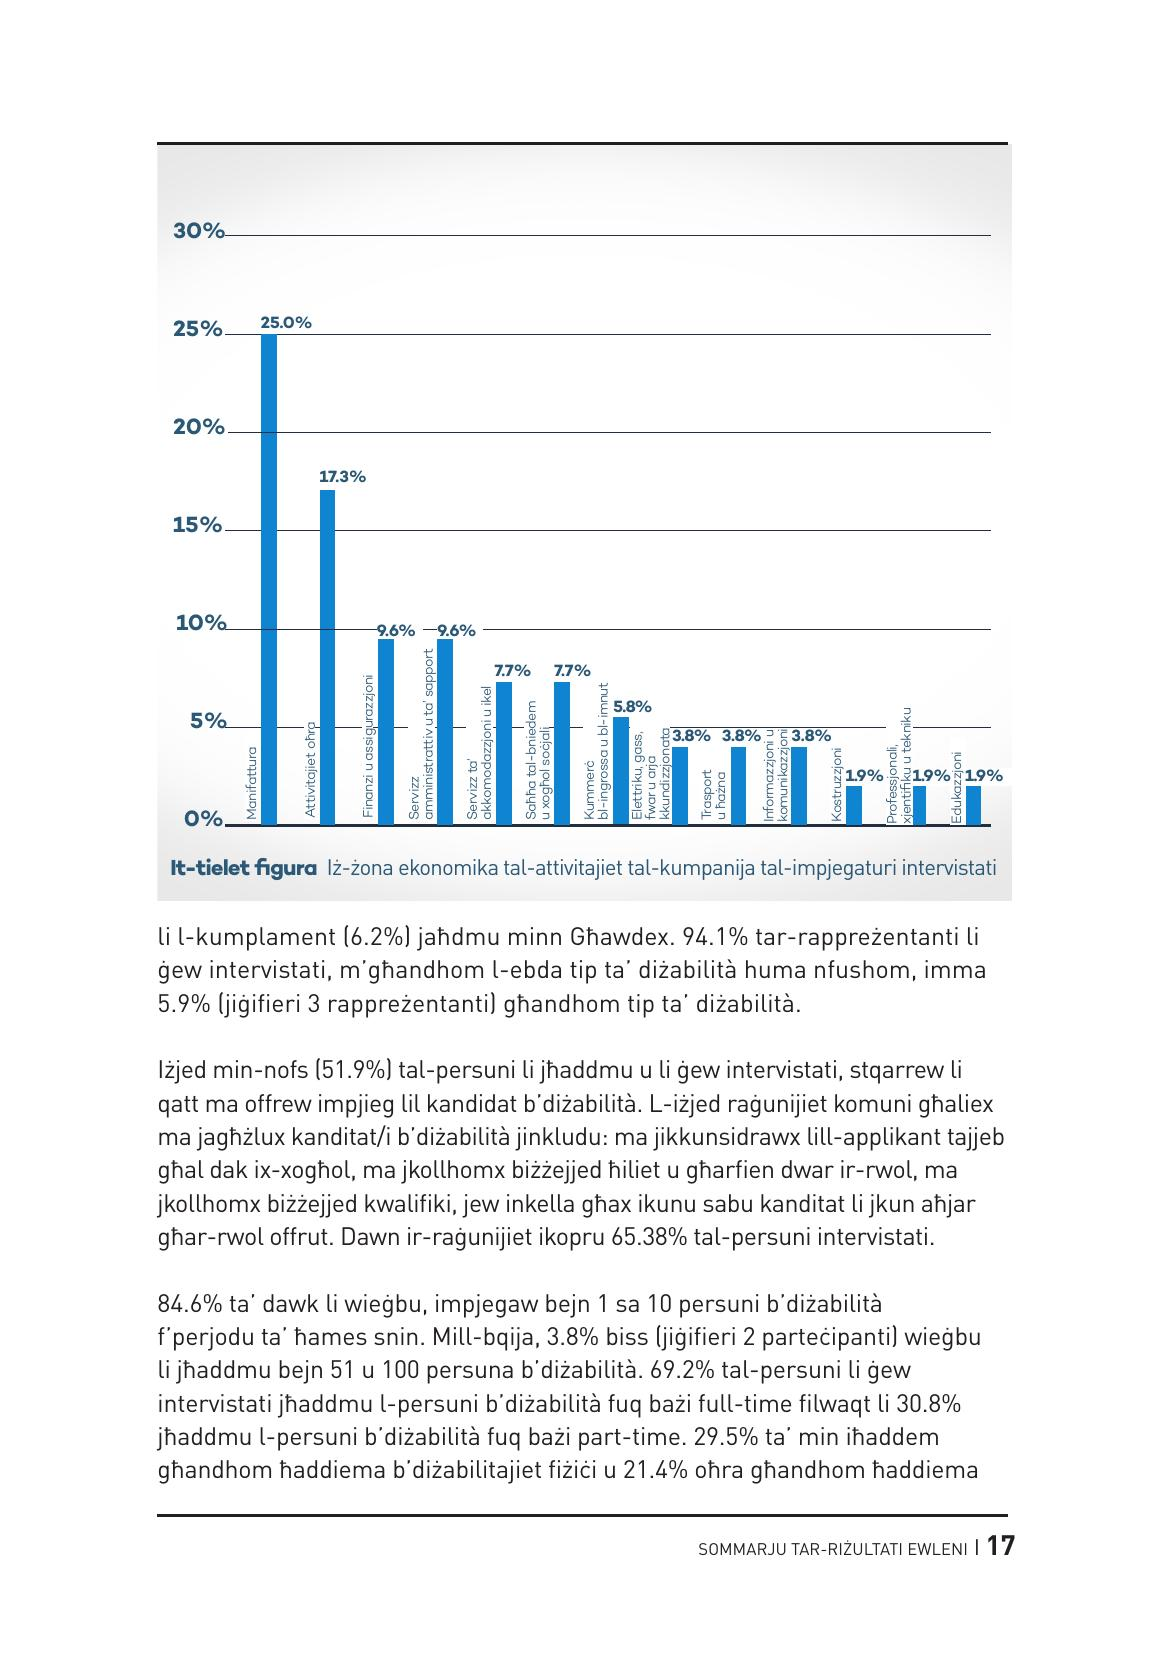text: (143, 905, 1010, 1503), (148, 847, 1020, 891)
